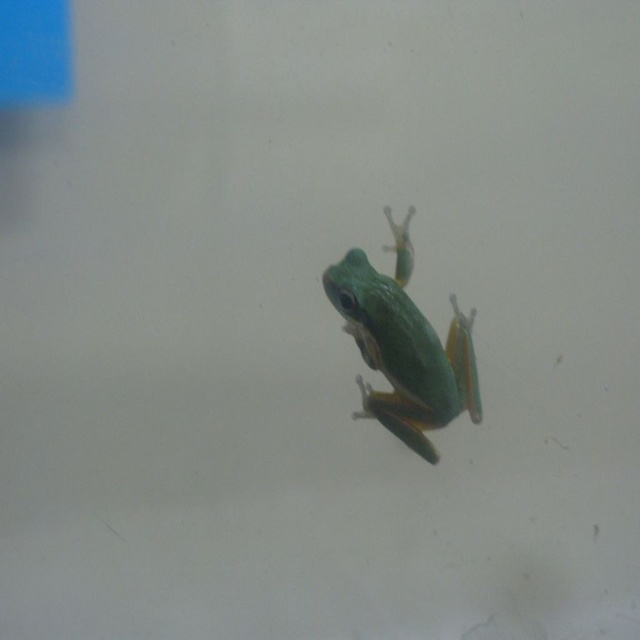Frog: (324, 204, 483, 467)
